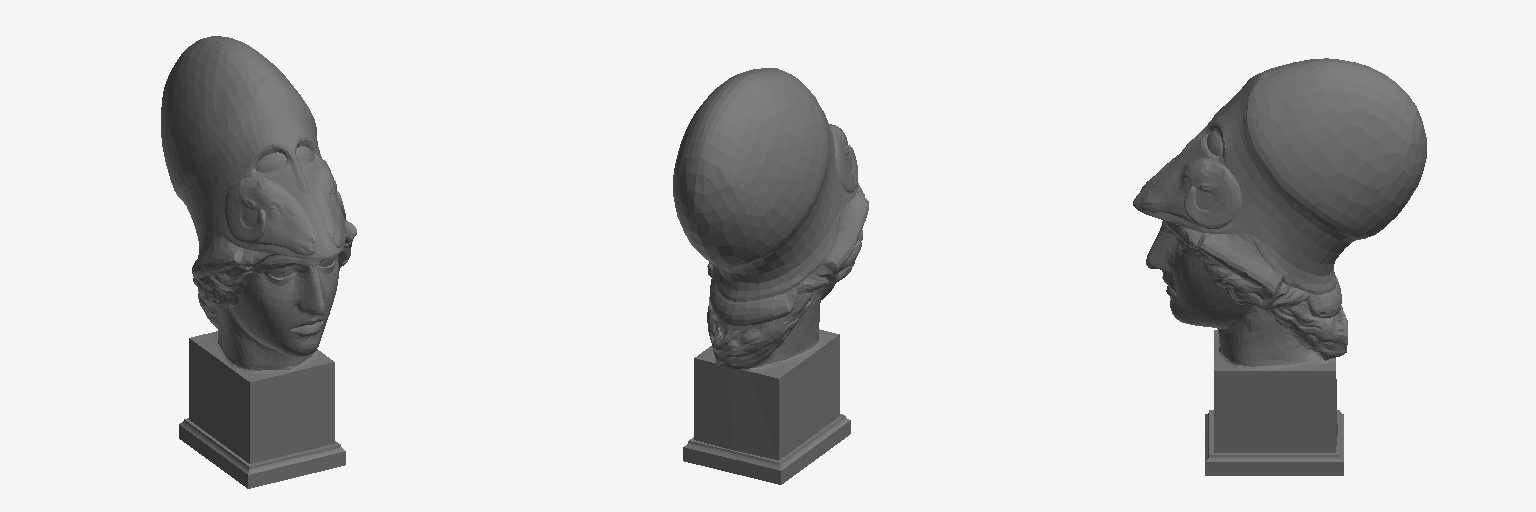
The model's file is atenea.obj.
The picture shows the model from 3 angles: view 1: azimuth 30°, elevation 25°; view 2: azimuth 150°, elevation 25°; view 3: azimuth 270°, elevation 25°; orthographic projection.
Visible parts, largest first — view 1: atenea:Mesh; view 2: atenea:Mesh; view 3: atenea:Mesh.
Part boxes in pixels (x1,y1,x2,y2): atenea:Mesh: (161, 36, 356, 488); atenea:Mesh: (673, 68, 868, 484); atenea:Mesh: (1133, 58, 1426, 475).
Size of the model in its own units: 1.18 by 3.09 by 2.12.